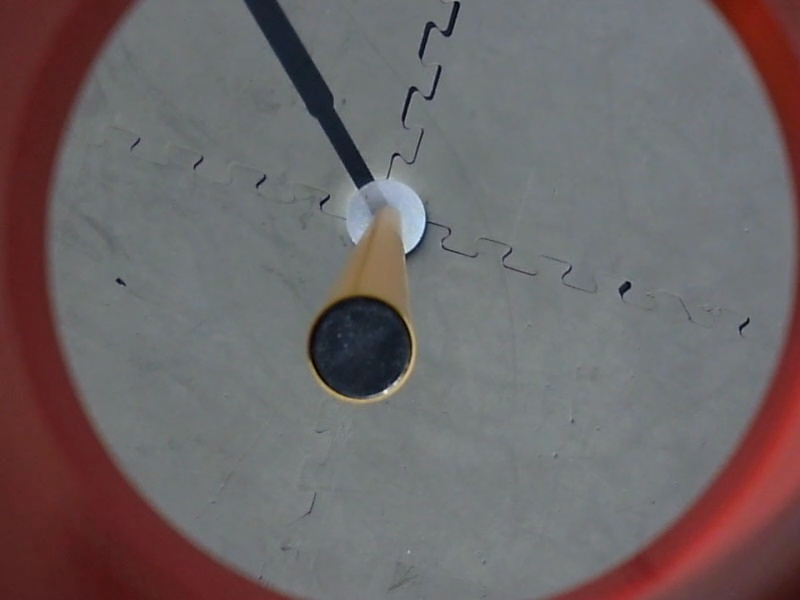tip: (303, 291, 422, 407)
